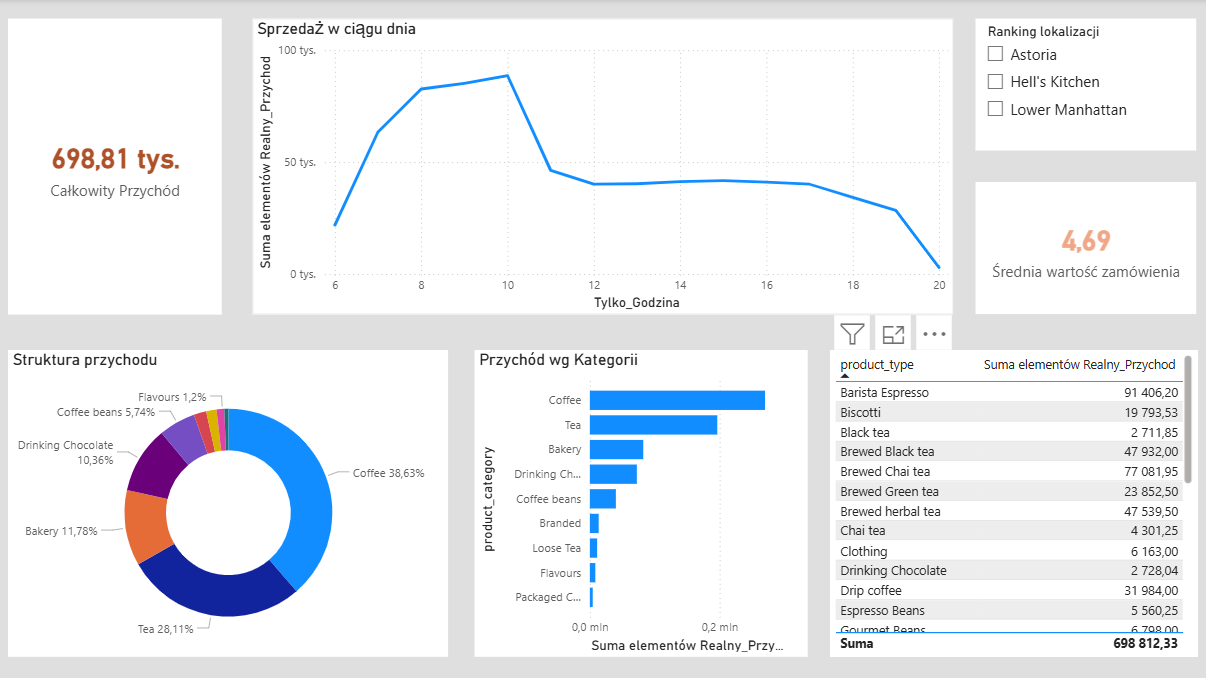

The page's visual inventory and layout, read from the dashboard file:
{"tool":"powerbi","page":{"name":"Strona 1","canvas":[1280,720],"ordinal":0},"visuals":[{"type":"card","fields":{"Values":["Sum(Transactions_Clean.Realny_Przychod)"]},"box":[9.4,20.8,226.8,313.7],"z":0},{"type":"clusteredBarChart","title":"Przychód wg Kategorii","fields":{"Y":["Sum(Transactions_Clean.Realny_Przychod)"],"Category":["Transactions_Clean.product_category"]},"box":[504.6,372.3,353.4,325],"z":1000},{"type":"lineChart","title":"Sprzedaż w ciągu dnia","fields":{"Category":["Transactions_Clean.Tylko_Godzina"],"Y":["Sum(Transactions_Clean.Realny_Przychod)"]},"box":[268.3,20.8,742.7,313.7],"z":2000},{"type":"slicer","fields":{"Values":["Transactions_Clean.store_location"]},"box":[1035.6,20.8,234.3,139.8],"z":3000},{"type":"donutChart","title":"Struktura przychodu","fields":{"Category":["Transactions_Clean.product_category"],"Y":["Sum(Transactions_Clean.Realny_Przychod)"]},"box":[9.4,372.3,466.8,325],"z":4000},{"type":"tableEx","fields":{"Values":["Transactions_Clean.product_type","Sum(Transactions_Clean.Realny_Przychod)"]},"box":[880.6,372.3,389.3,325],"z":5000},{"type":"card","fields":{"Values":["Avg(Transactions_Clean.Realny_Przychod)","select"]},"box":[1035.6,194.6,234.3,139.8],"z":6000}]}

Visuals, with their boxes in screenshot pixels (x1, y1, x2, y2), scaled from the page's 1280x720 canvas onto the 1206x678 screenshot:
card - Sum(Transactions_Clean.Realny_Przychod): BBox(9, 20, 223, 315)
"Przychód wg Kategorii" clusteredBarChart: BBox(475, 351, 808, 657)
"Sprzedaż w ciągu dnia" lineChart: BBox(253, 20, 953, 315)
slicer - Transactions_Clean.store_location: BBox(976, 20, 1196, 151)
"Struktura przychodu" donutChart: BBox(9, 351, 449, 657)
tableEx - Transactions_Clean.product_type x Sum(Transactions_Clean.Realny_Przychod): BBox(830, 351, 1196, 657)
card - Avg(Transactions_Clean.Realny_Przychod) x select: BBox(976, 183, 1196, 315)
